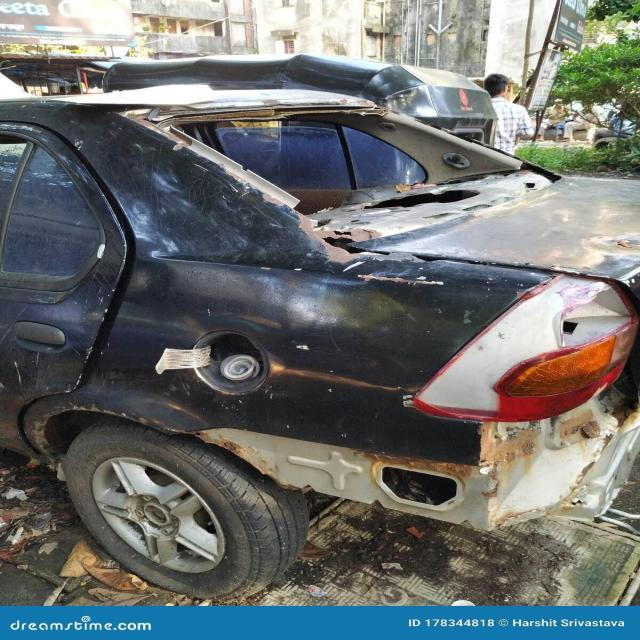accident: (0, 85, 639, 599)
